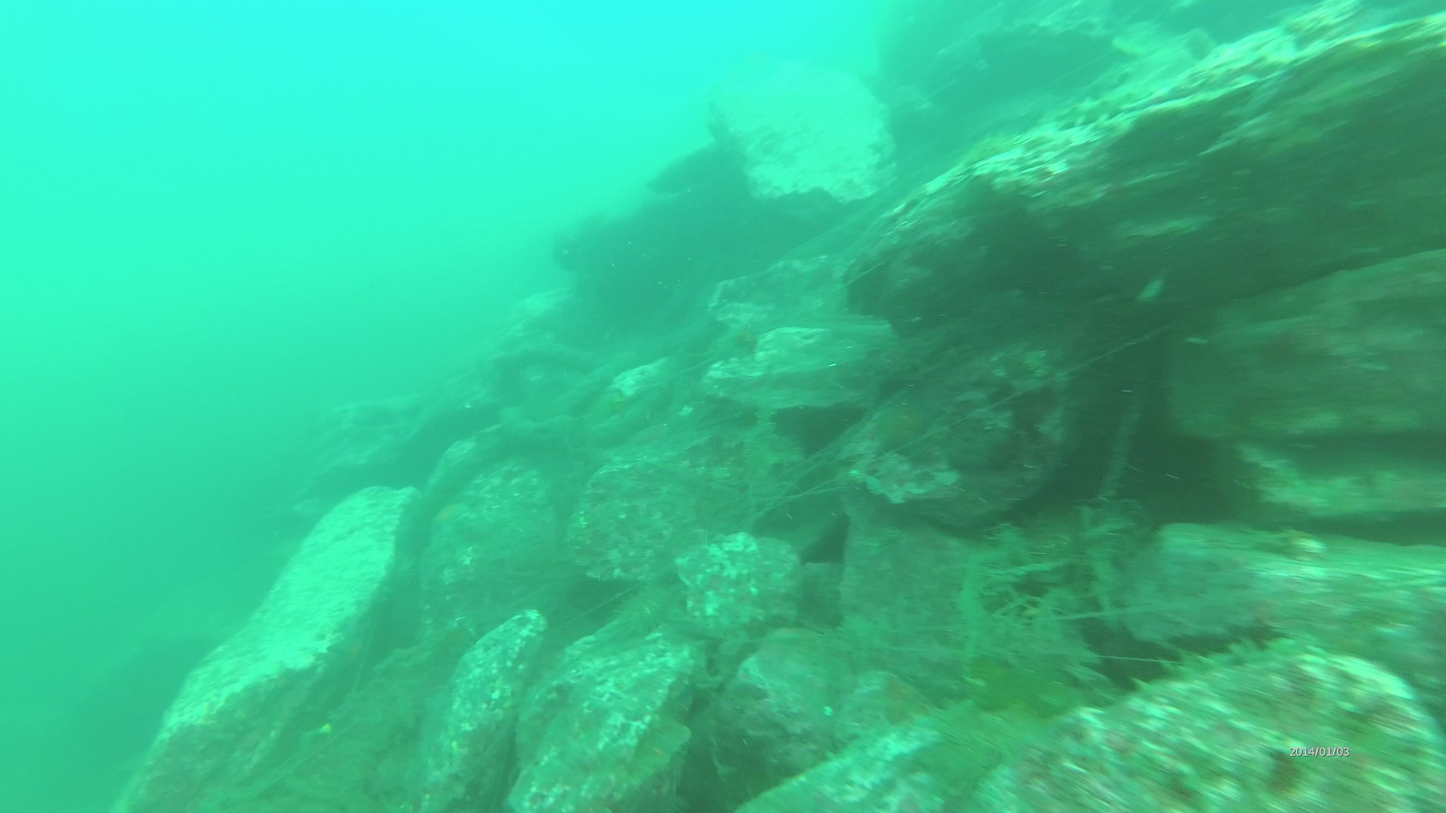holothurian: (876, 389, 943, 460)
